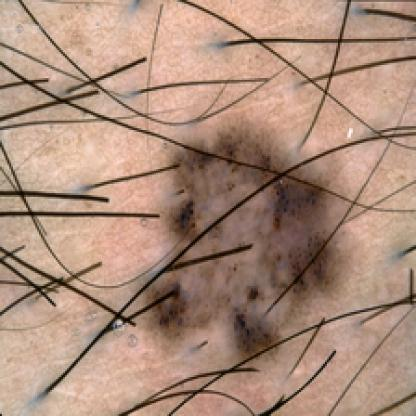malignant: (156, 102, 331, 353)
